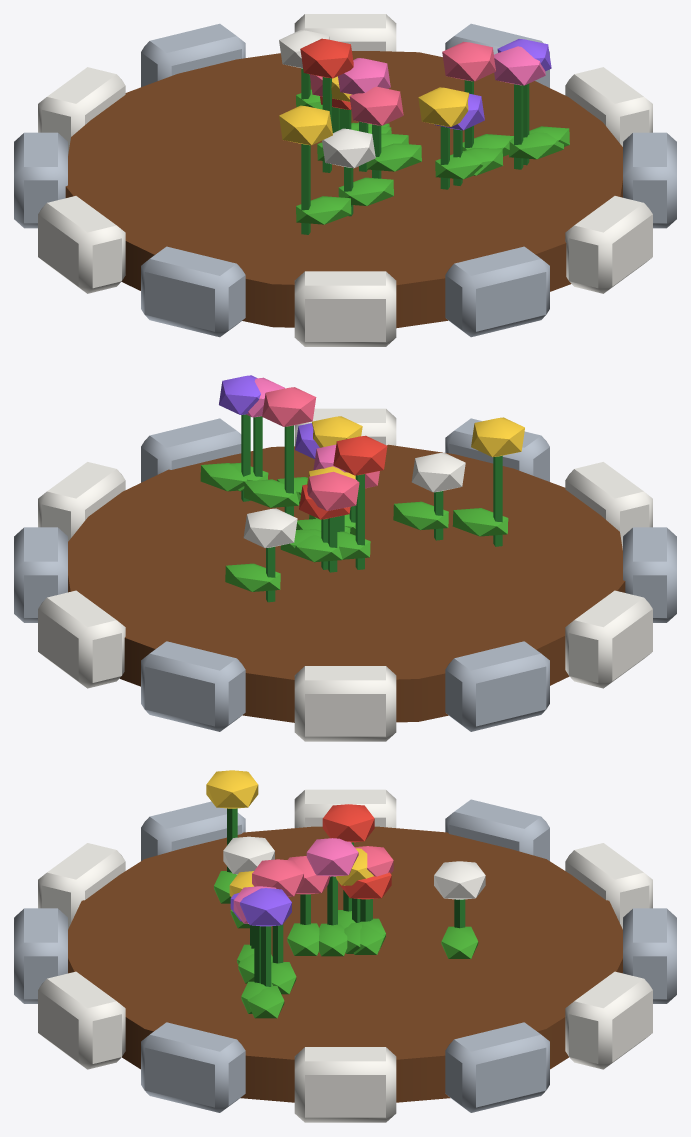
The model's file is home_flowers.fbx.
3 renders of one model, top to bottom at view 1: azimuth 30°, elevation 25°; view 2: azimuth 150°, elevation 25°; view 3: azimuth 270°, elevation 25°, orthographic.
Parts seen in each view (by area): view 1: home_flowers; view 2: home_flowers; view 3: home_flowers.
Part boxes in pixels (<box>): home_flowers: <box>14,14,676,346</box>; home_flowers: <box>14,375,676,741</box>; home_flowers: <box>14,770,676,1122</box>.
Size of the model in its own units: 0.98 by 0.285 by 0.98.
